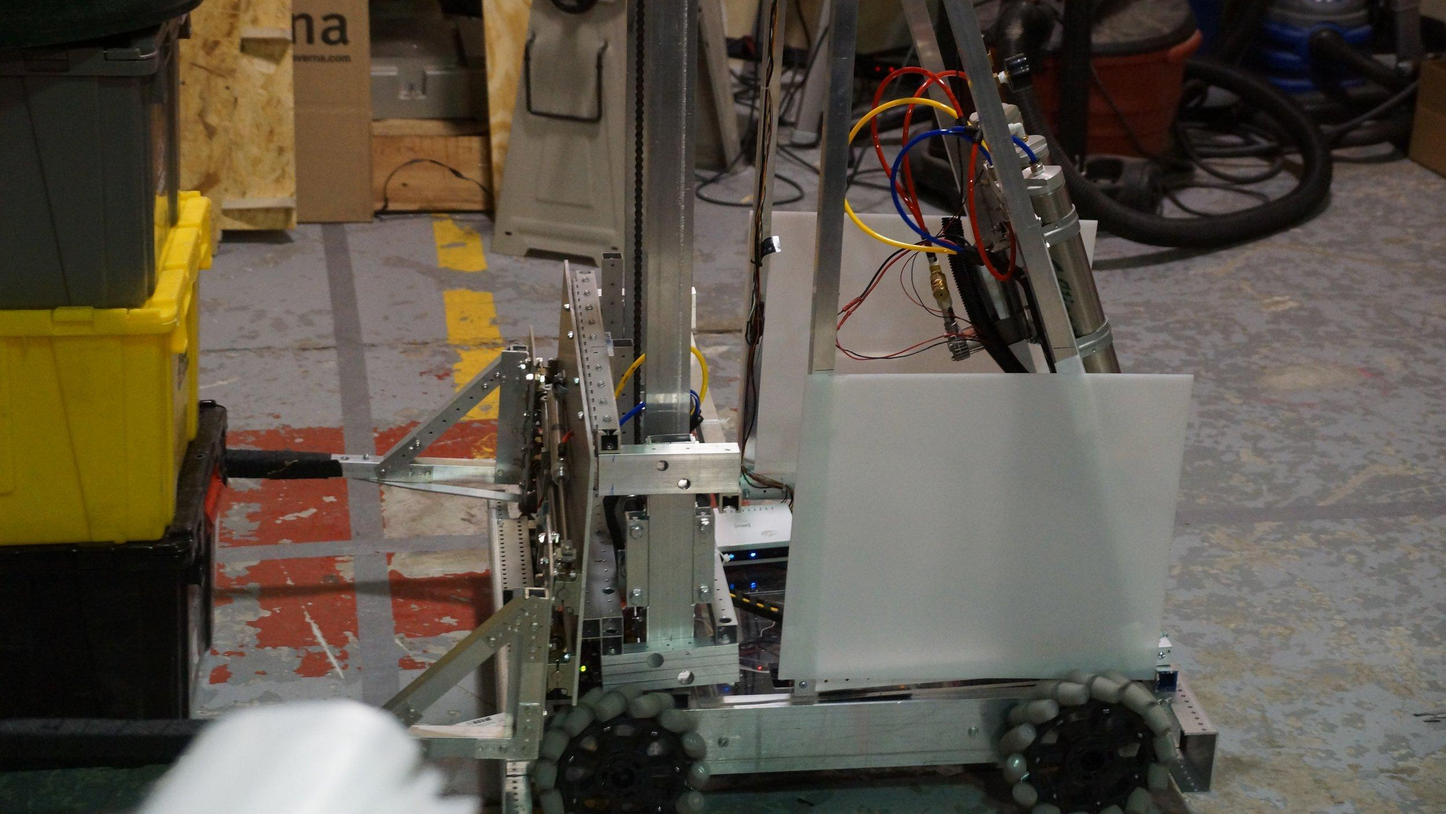robot: (0, 0, 1229, 814)
